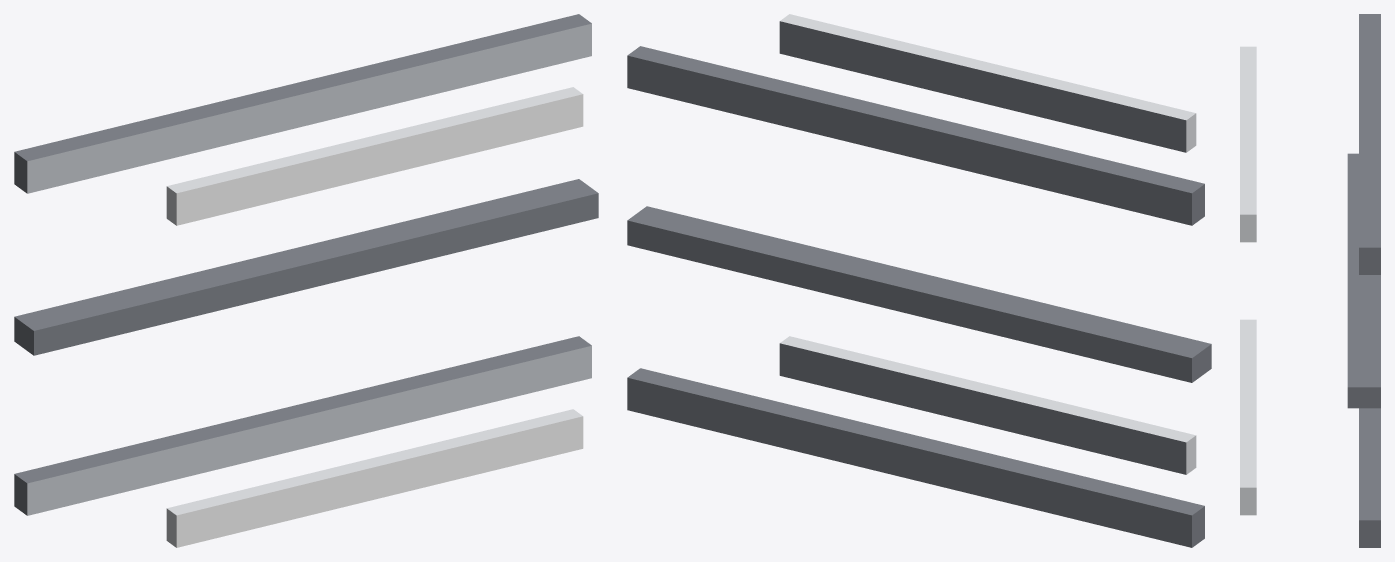
File: station-mrl.gltf
3 renders of one model, left to right at view 1: azimuth 30°, elevation 25°; view 2: azimuth 150°, elevation 25°; view 3: azimuth 270°, elevation 25°, orthographic. The views are drawn at different scales.
Parts seen in each view (by area): view 1: station-mrl; view 2: station-mrl; view 3: station-mrl.
Part boxes in pixels (x1=…): station-mrl: x1=14, y1=14, x2=598, y2=547; station-mrl: x1=627, y1=14, x2=1211, y2=547; station-mrl: x1=1240, y1=14, x2=1380, y2=547.
Bounding box in the file's own units: 20 × 12 × 5.1.
Materials: 1 (1 with a texture image).
